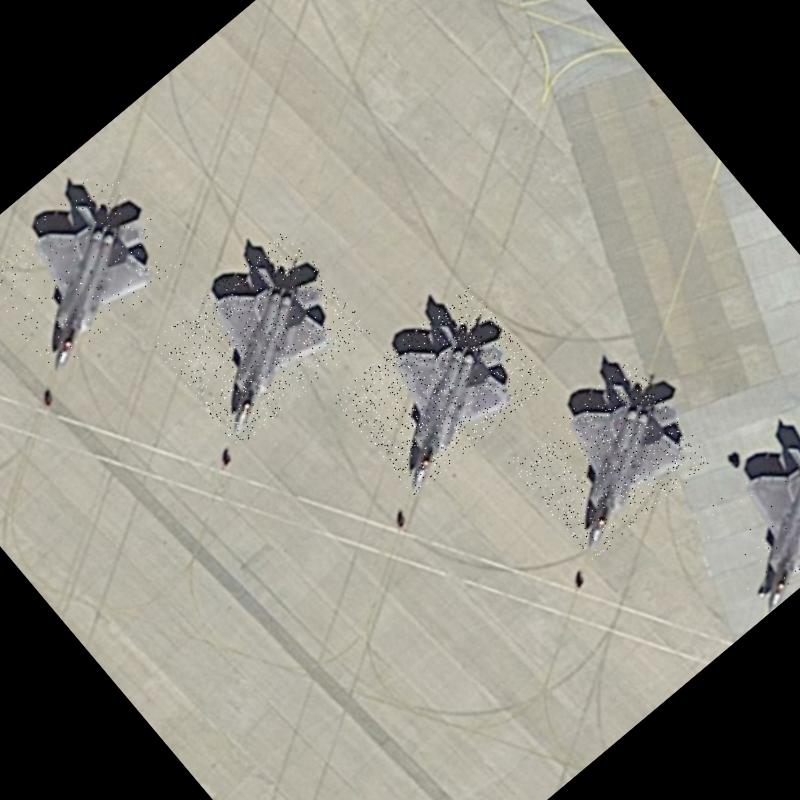A15: (149, 228, 374, 447), (332, 283, 550, 496), (508, 359, 714, 562), (0, 163, 189, 375), (685, 412, 800, 611)
